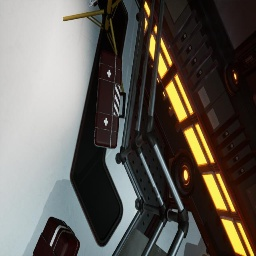FirstAidBox ,: (94, 50, 126, 149), (32, 216, 80, 256)
